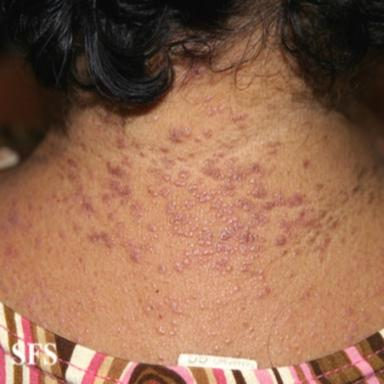lichen: (146, 147, 341, 283), (63, 133, 160, 265), (204, 96, 225, 116), (170, 127, 191, 142), (267, 140, 281, 155), (231, 112, 245, 122), (204, 127, 212, 138), (302, 158, 310, 169), (194, 135, 202, 143)
